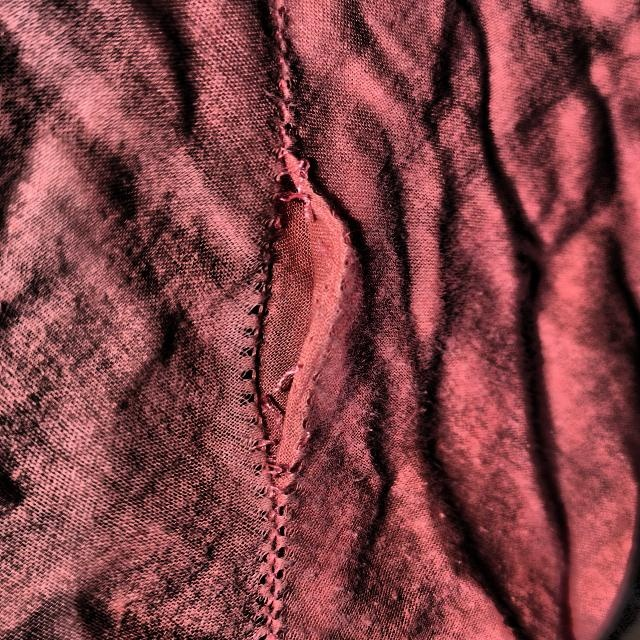seam: (145, 91, 413, 626)
